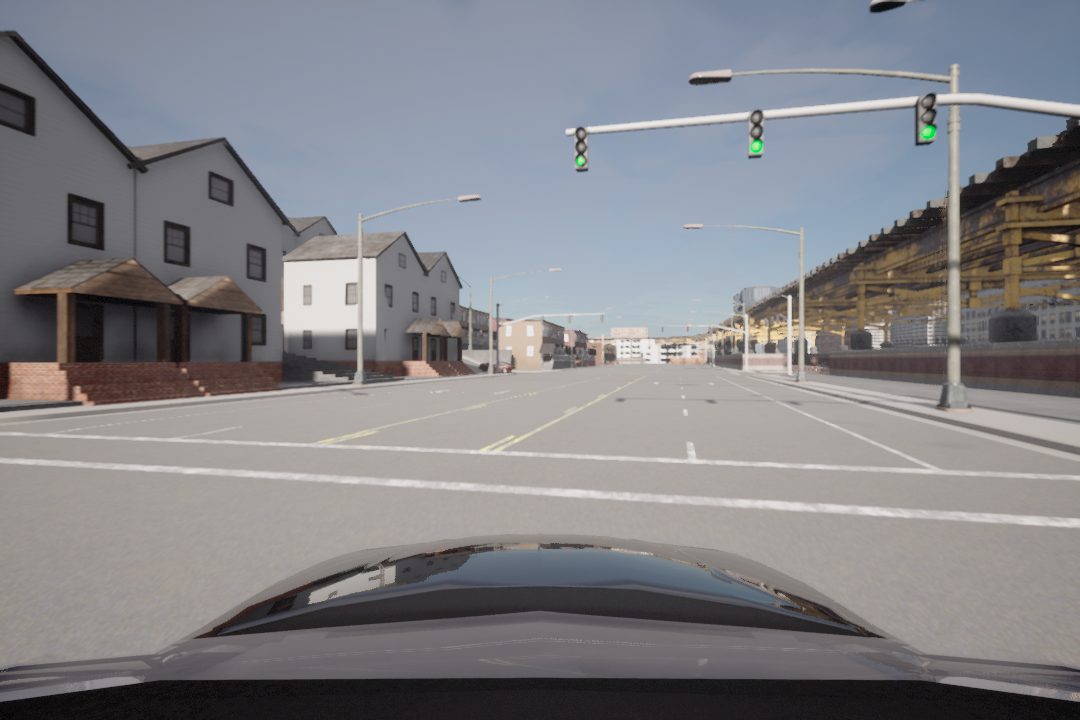TrafficLight: (748, 107, 767, 159), (572, 124, 591, 174), (919, 93, 938, 143)
